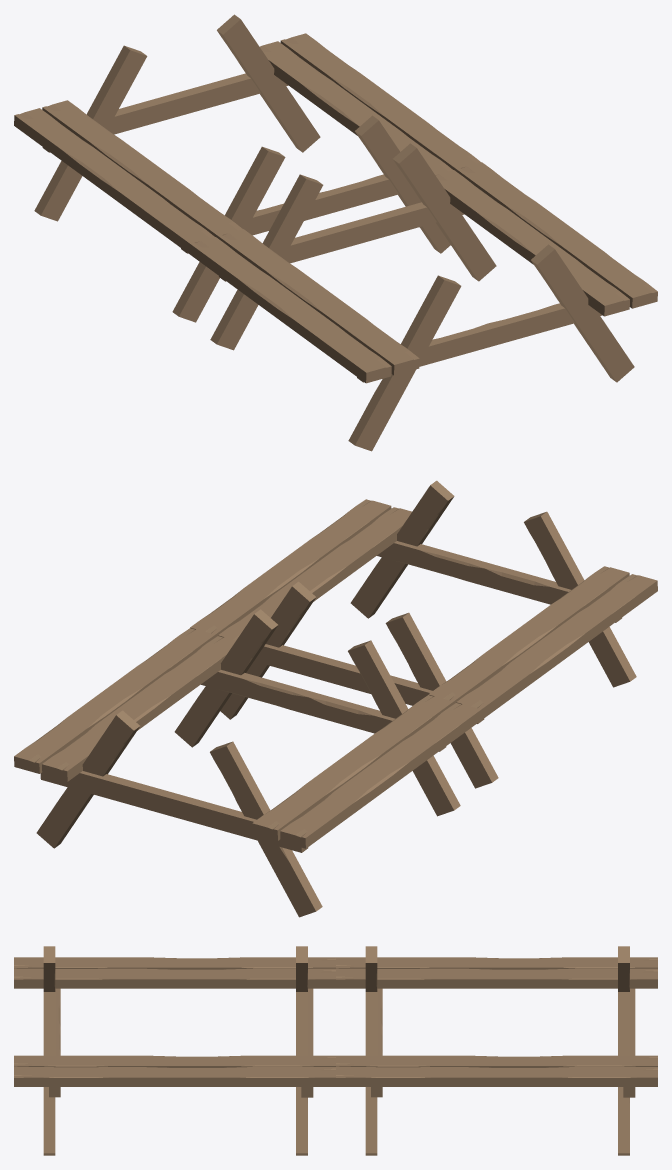
File: banc.fbx
3 renders of one model, top to bottom at view 1: azimuth 30°, elevation 25°; view 2: azimuth 150°, elevation 25°; view 3: azimuth 270°, elevation 25°, orthographic. The views are drawn at different scales.
Parts seen in each view (by area): view 1: structure table.005; view 2: structure table.005; view 3: structure table.005.
Part boxes in pixels (x1,y1,x2,y2): structure table.005: (14, 14, 657, 451); structure table.005: (14, 480, 657, 917); structure table.005: (14, 946, 657, 1155).
Size of the model in its own units: 301 by 155 by 628.
